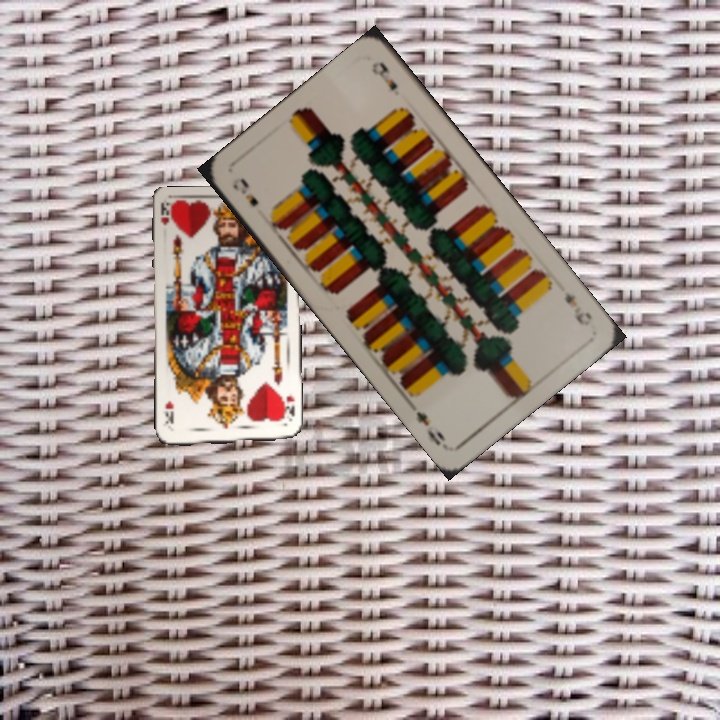E9: (560, 288, 595, 328), (228, 173, 261, 210)
HK: (278, 391, 297, 424), (156, 201, 174, 228)
